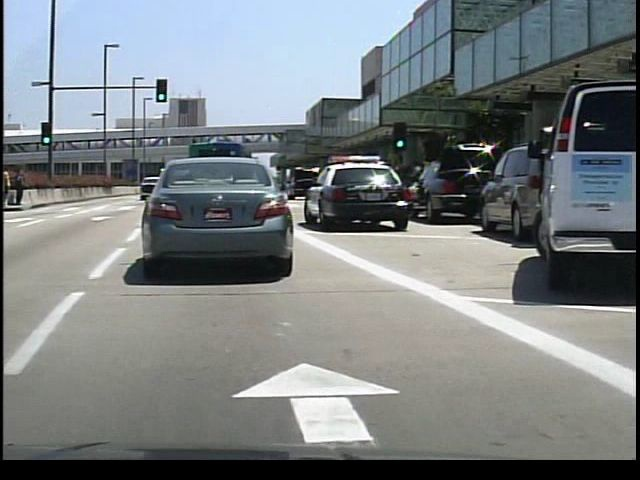person: (12, 165, 26, 208)
